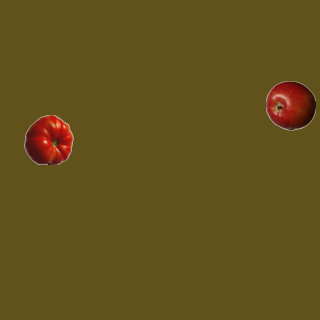Apple Braeburn: (265, 80, 315, 130)
Tomato 3: (23, 114, 73, 164)
